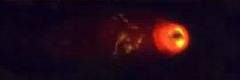keyhole: (168, 28, 186, 42)
